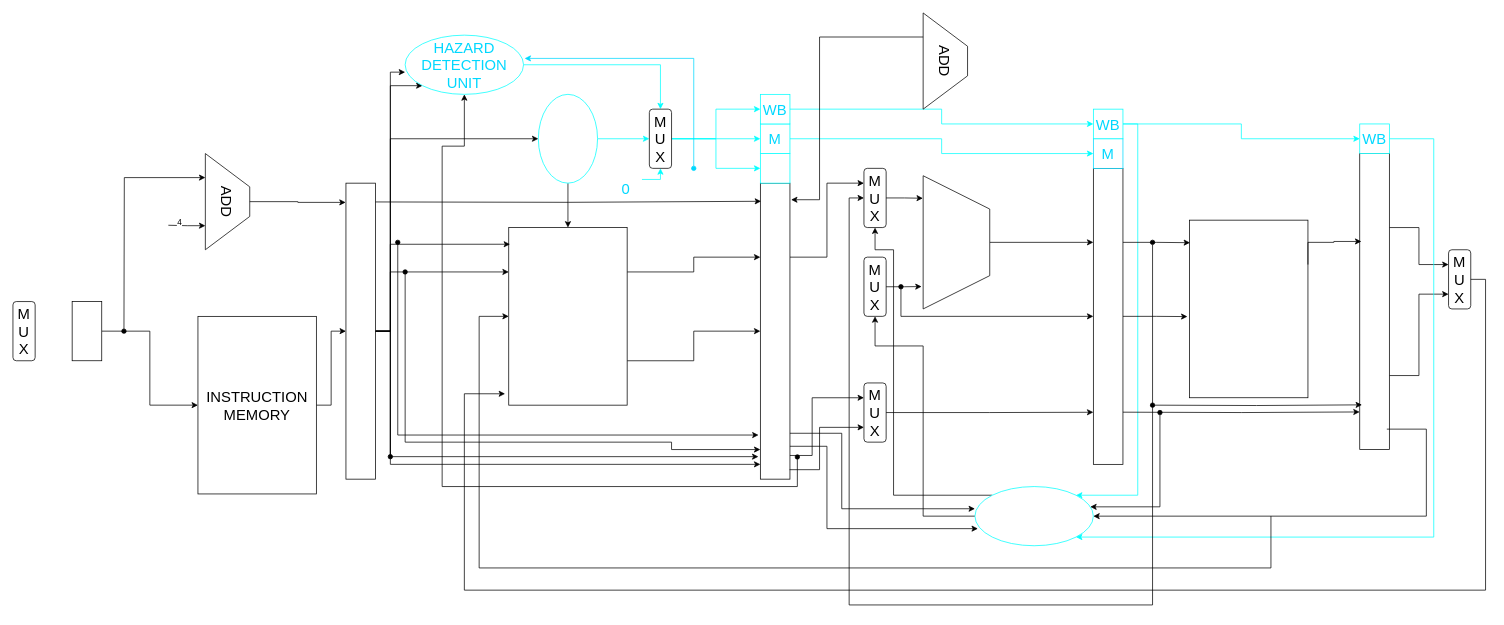
The diagram is 1504 pixels wide and 625 high, and some of its shapes have lost their labels. Here are the shapes that lost their labels. From the top down, the centre of each, then its label:
At (568,138): "CONTROL".
At (775,168): "EX".
At (956,242): "ALU".
At (567,316): "REGISTERS".
At (1248,308): "DATA MEMORY".
At (86,331): "PC".
At (1033,516): "FORWARDING UNIT".
